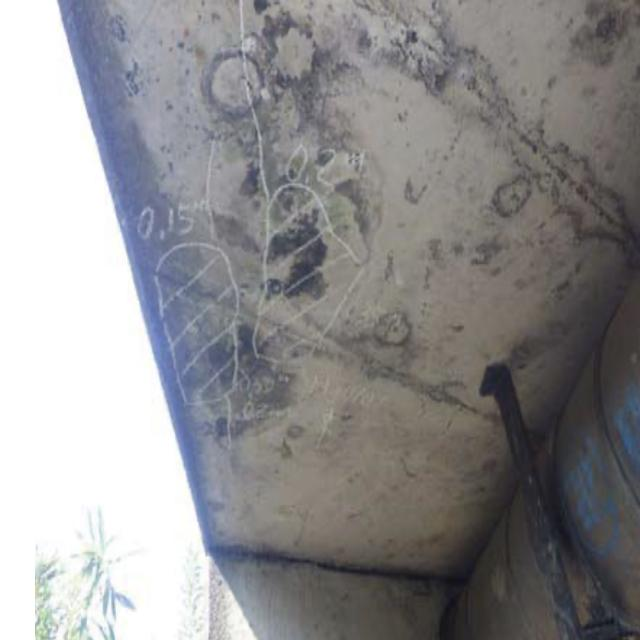leakage: (157, 16, 394, 447)
